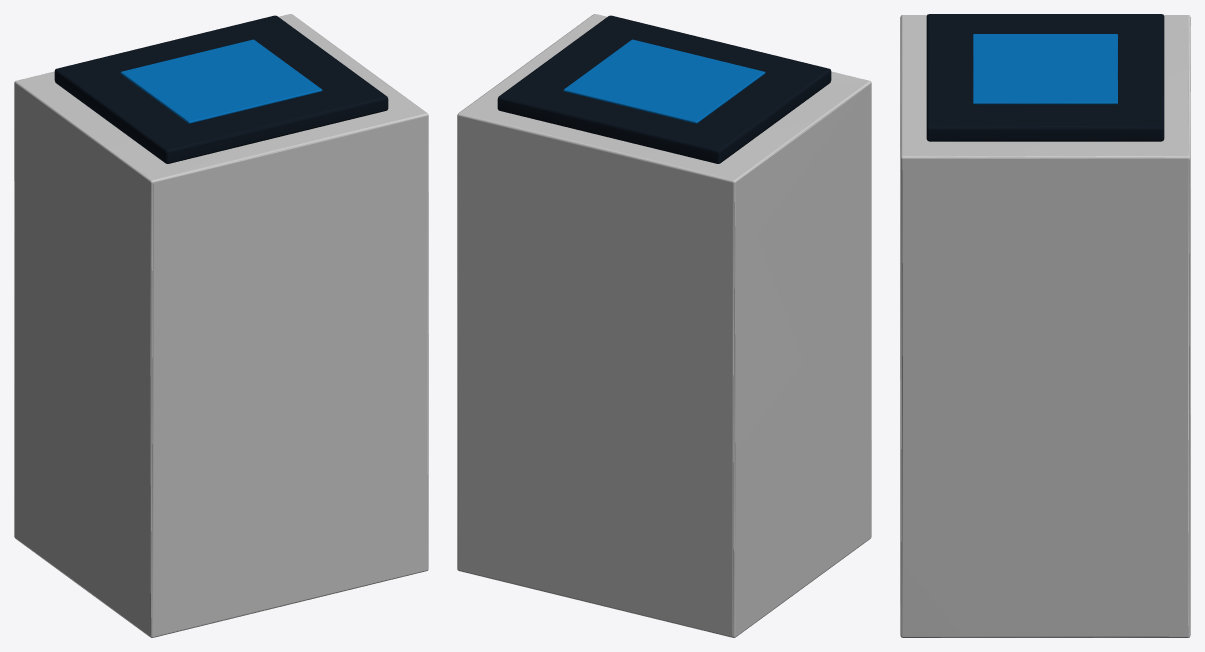
File: StandardTower.obj
3 views of the same model, side by side, from view 1: azimuth 30°, elevation 25°; view 2: azimuth 150°, elevation 25°; view 3: azimuth 270°, elevation 25° (orthographic). The views are drawn at different scales.
Visible parts, largest first — view 1: StandardTower_Facade, StandardTower_RoofArmor, StandardTower_RoofLight; view 2: StandardTower_Facade, StandardTower_RoofArmor, StandardTower_RoofLight; view 3: StandardTower_Facade, StandardTower_RoofArmor, StandardTower_RoofLight.
Part boxes in pixels (x1,y1,x2,y2): StandardTower_Facade: (14,14,428,637); StandardTower_RoofArmor: (54,15,388,163); StandardTower_RoofLight: (120,39,322,123); StandardTower_Facade: (457,14,871,637); StandardTower_RoofArmor: (497,15,831,163); StandardTower_RoofLight: (563,39,765,123); StandardTower_Facade: (900,15,1190,637); StandardTower_RoofArmor: (926,14,1164,141); StandardTower_RoofLight: (973,34,1117,104).
Bounding box in the file's own units: 14 × 22.8 × 12.
